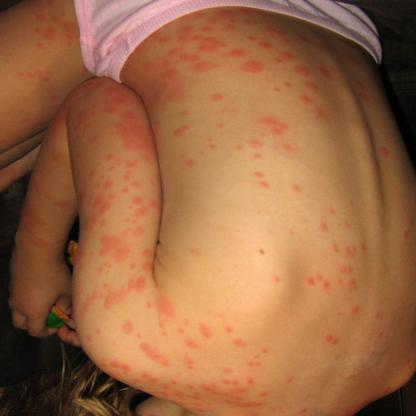Bed Bug: (131, 372, 308, 415), (232, 7, 334, 79), (140, 10, 231, 82), (102, 160, 164, 236), (154, 294, 246, 338), (102, 87, 158, 159), (70, 277, 150, 320), (231, 114, 300, 162), (75, 160, 100, 274), (29, 0, 80, 54), (102, 238, 172, 275), (70, 80, 100, 159), (8, 286, 54, 336), (11, 184, 52, 234), (303, 264, 367, 296), (165, 108, 197, 170), (216, 340, 274, 372), (316, 198, 362, 235), (263, 81, 330, 105), (198, 119, 227, 160), (337, 36, 362, 72), (326, 242, 370, 262), (134, 344, 170, 368), (77, 326, 101, 360), (94, 359, 130, 381), (31, 236, 62, 260), (12, 69, 54, 85), (161, 83, 191, 105), (115, 322, 148, 342), (248, 170, 275, 194), (180, 340, 200, 372), (330, 304, 366, 321), (351, 79, 371, 106), (2, 26, 16, 64), (37, 142, 62, 162), (116, 60, 136, 84), (320, 330, 344, 349), (42, 90, 62, 112), (399, 216, 415, 243), (18, 115, 44, 131), (374, 139, 390, 165), (204, 91, 230, 107), (53, 194, 73, 212), (50, 112, 66, 134), (266, 272, 286, 288), (186, 245, 204, 262), (310, 107, 330, 122), (289, 182, 304, 200), (404, 265, 416, 285), (404, 355, 416, 373), (13, 239, 28, 253), (370, 311, 387, 323), (374, 328, 388, 342), (283, 226, 297, 240), (51, 265, 64, 280), (328, 354, 344, 366), (344, 372, 359, 383), (34, 166, 46, 178), (80, 64, 94, 74), (380, 384, 392, 395), (368, 349, 379, 361), (1, 134, 10, 148)
